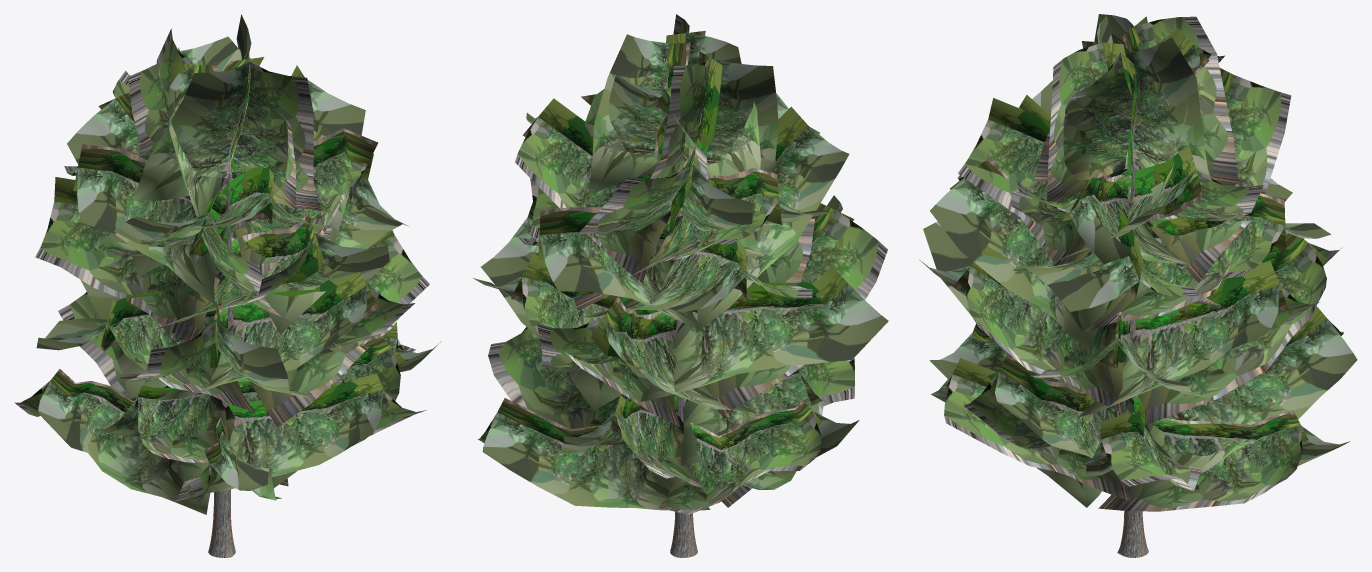
File: Tree_02.fbx
3 views of the same model, side by side, from view 1: azimuth 30°, elevation 25°; view 2: azimuth 150°, elevation 25°; view 3: azimuth 270°, elevation 25° (orthographic). The views are drawn at different scales.
Parts seen in each view (by area): view 1: LOD0; view 2: LOD0; view 3: LOD0.
Part boxes in pixels (x1,y1,x2,y2): LOD0: [14, 14, 441, 557]; LOD0: [473, 14, 888, 557]; LOD0: [919, 14, 1357, 557].
Size of the model in its own units: 1001 by 1280 by 957.
